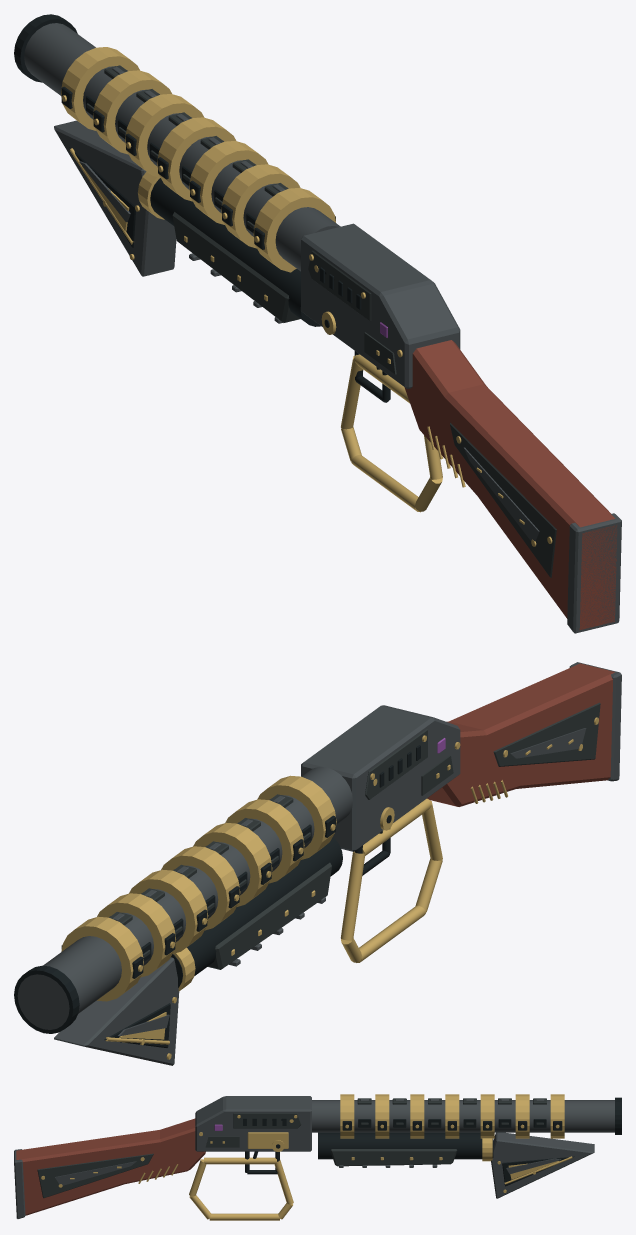
File: slug_3.glb
3 renders of one model, top to bottom at view 1: azimuth 30°, elevation 25°; view 2: azimuth 150°, elevation 25°; view 3: azimuth 270°, elevation 25°, orthographic. The views are drawn at different scales.
Parts seen in each view (by area): view 1: Weapon_slug_v1; view 2: Weapon_slug_v1; view 3: Weapon_slug_v1.
Boxes of the visible parts, x1=… form: Weapon_slug_v1: x1=14, y1=14, x2=621, y2=633; Weapon_slug_v1: x1=14, y1=662, x2=621, y2=1065; Weapon_slug_v1: x1=14, y1=1094, x2=621, y2=1220.
Size of the model in its own units: 0.084 by 0.234 by 1.04.
